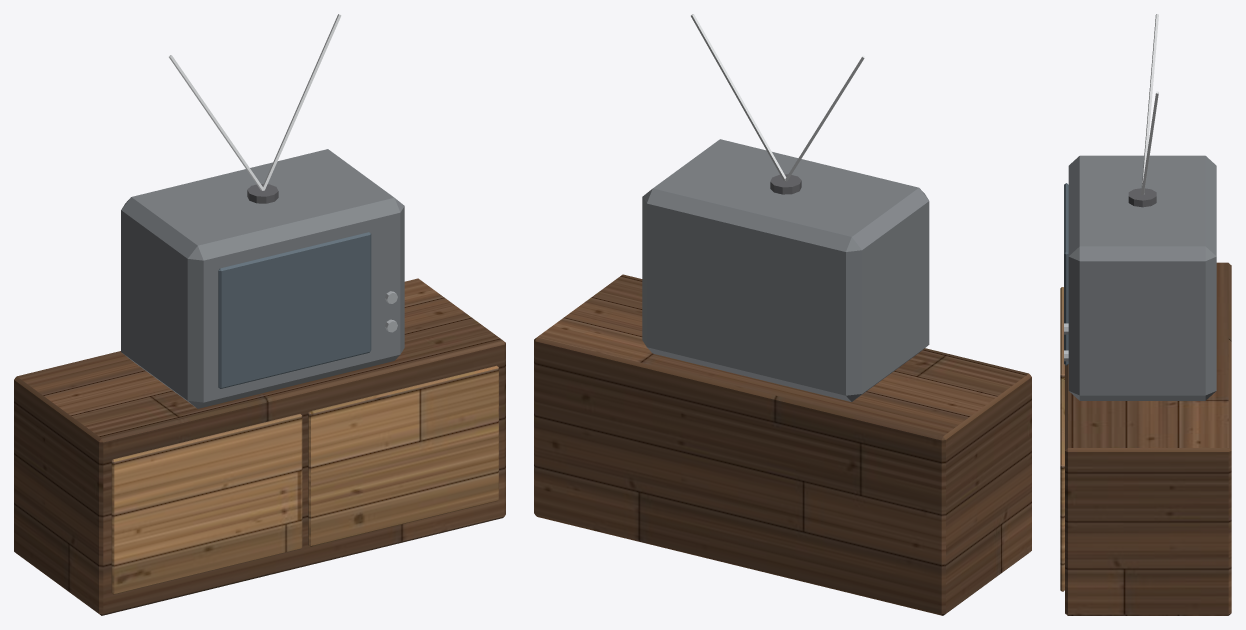
Rendered from tv_stand.glb.
3 renders of one model, left to right at view 1: azimuth 30°, elevation 25°; view 2: azimuth 150°, elevation 25°; view 3: azimuth 270°, elevation 25°, orthographic. The views are drawn at different scales.
Parts seen in each view (by area): view 1: tv_stand_wood, tv_stand_dkwood, tv_stand_steel_d, tv_stand_screen, tv_stand_chrome; view 2: tv_stand_dkwood, tv_stand_steel_d, tv_stand_chrome; view 3: tv_stand_dkwood, tv_stand_steel_d, tv_stand_wood, tv_stand_chrome, tv_stand_screen, tv_stand_dark.
Boxes of the visible parts, x1,y1,x2,y2 form: tv_stand_wood: (111, 365, 498, 594); tv_stand_dkwood: (14, 278, 505, 615); tv_stand_steel_d: (121, 149, 404, 408); tv_stand_screen: (218, 232, 371, 388); tv_stand_chrome: (169, 14, 341, 190); tv_stand_dkwood: (534, 274, 1031, 615); tv_stand_steel_d: (642, 139, 929, 401); tv_stand_chrome: (691, 14, 864, 181); tv_stand_dkwood: (1065, 262, 1231, 615); tv_stand_steel_d: (1068, 155, 1216, 400); tv_stand_wood: (1060, 287, 1064, 591); tv_stand_chrome: (1141, 14, 1158, 194); tv_stand_screen: (1064, 183, 1068, 365); tv_stand_dark: (1128, 188, 1156, 207).
Size of the model in its own units: 1.2 by 1.4 by 0.462.
7 materials, 2 textured.
